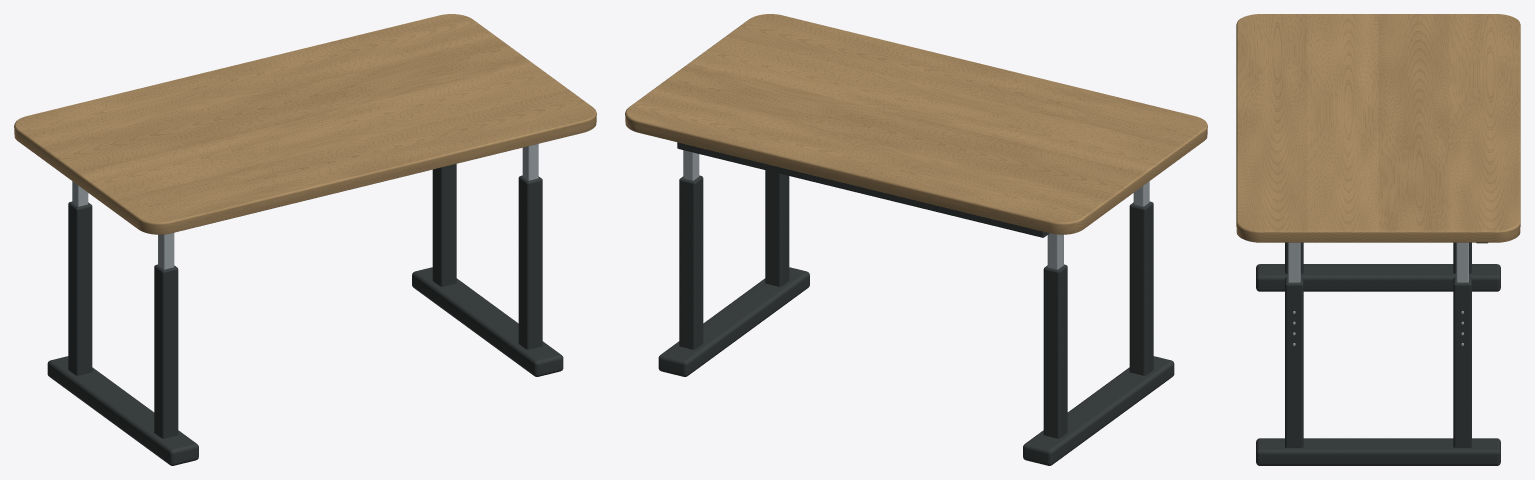
File: office-table.glb
3 renders of one model, left to right at view 1: azimuth 30°, elevation 25°; view 2: azimuth 150°, elevation 25°; view 3: azimuth 270°, elevation 25°, orthographic. The views are drawn at different scales.
Parts seen in each view (by area): view 1: Wide accessible worktop, Low side sled, Low side sled.001, Telescoping support lower, Telescoping support lower.001, Telescoping support lower.002, Telescoping support lower.003, Height-adjustable upper; view 2: Wide accessible worktop, Low side sled, Low side sled.001, Telescoping support lower.001, Telescoping support lower, Telescoping support lower.003, Telescoping support lower.002, High rear stability tie, Height-adjustable upper.001; view 3: Wide accessible worktop, Low side sled.001, Low side sled, Telescoping support lower.002, Telescoping support lower.003, Height-adjustable upper.002, Height-adjustable upper.003.
Part boxes in pixels (x1,y1,x2,y2): Wide accessible worktop: [14, 14, 596, 234]; Low side sled: [47, 356, 198, 465]; Low side sled.001: [412, 267, 563, 376]; Telescoping support lower: [154, 264, 178, 438]; Telescoping support lower.001: [68, 201, 92, 375]; Telescoping support lower.002: [518, 175, 542, 349]; Telescoping support lower.003: [432, 164, 456, 286]; Height-adjustable upper: [158, 233, 174, 269]; Wide accessible worktop: [625, 14, 1207, 234]; Low side sled: [1023, 356, 1174, 465]; Low side sled.001: [658, 267, 809, 376]; Telescoping support lower.001: [1043, 264, 1067, 438]; Telescoping support lower: [1129, 201, 1153, 375]; Telescoping support lower.003: [679, 175, 703, 349]; Telescoping support lower.002: [765, 170, 789, 286]; High rear stability tie: [677, 142, 1049, 237]; Height-adjustable upper.001: [1047, 233, 1063, 269]; Wide accessible worktop: [1236, 14, 1520, 242]; Low side sled.001: [1256, 438, 1500, 465]; Low side sled: [1256, 264, 1500, 291]; Telescoping support lower.002: [1285, 277, 1303, 447]; Telescoping support lower.003: [1453, 277, 1471, 447]; Height-adjustable upper.002: [1288, 242, 1300, 282]; Height-adjustable upper.003: [1456, 242, 1468, 282].
Bounding box in the file's own units: 1.53 × 0.8215 × 0.844.
4 materials, 4 textured.
